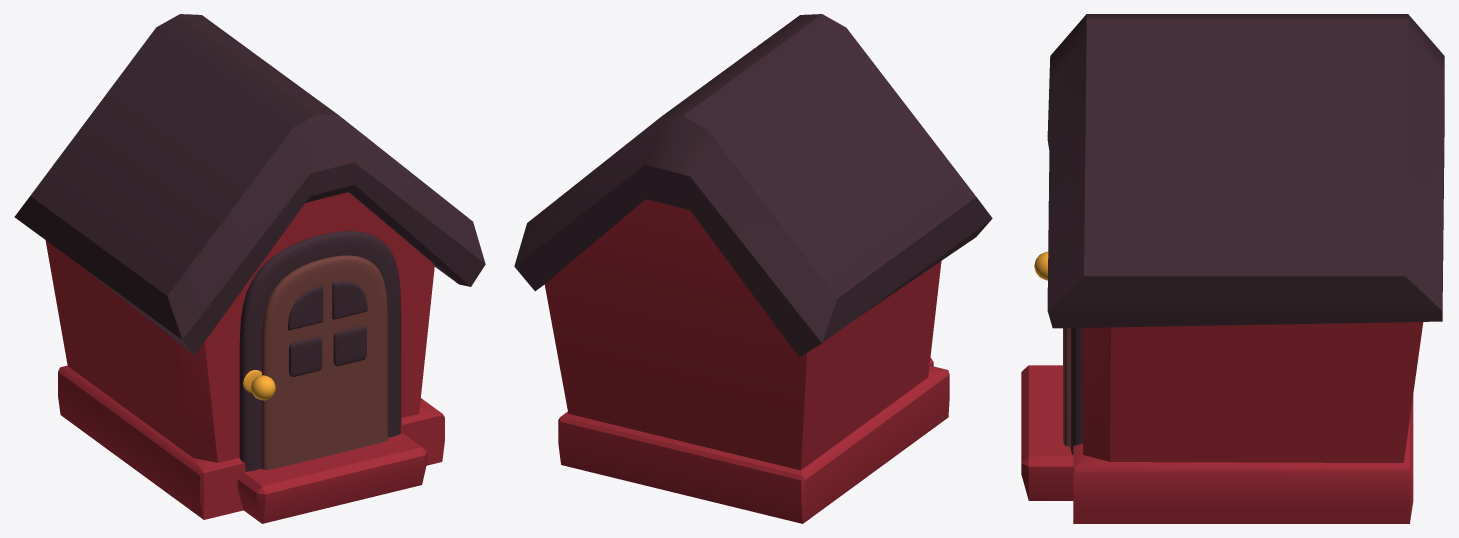
Rendered from birdhouse01.fbx.
3 renders of one model, left to right at view 1: azimuth 30°, elevation 25°; view 2: azimuth 150°, elevation 25°; view 3: azimuth 270°, elevation 25°, orthographic. The views are drawn at different scales.
Parts seen in each view (by area): view 1: House; view 2: House; view 3: House.
Boxes of the visible parts, left/top/right/bottom form: House: left=14, top=14, right=485, bottom=523; House: left=514, top=14, right=992, bottom=523; House: left=1021, top=14, right=1444, bottom=523.
Bounding box in the file's own units: 97.39 × 95.35 × 111.
